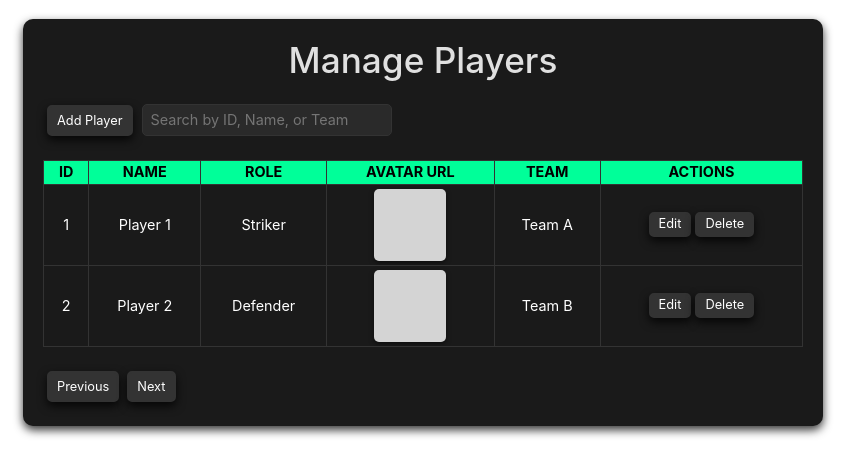
Scenario: PlayersAdmin Component › filters players based on search input
# Simulate typing in the search bar
In the field with placeholder "Search by ID, Name, or Team": (267, 120) [142, 104, 392, 136], type "Player 1"
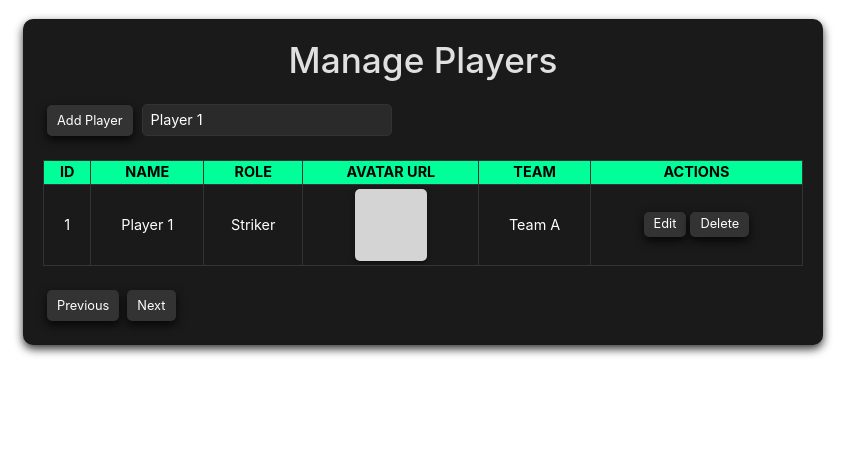
Expected: the text "Player 1" is shown, [91, 184, 204, 265]
Expected: the text "Player 2" is gone
